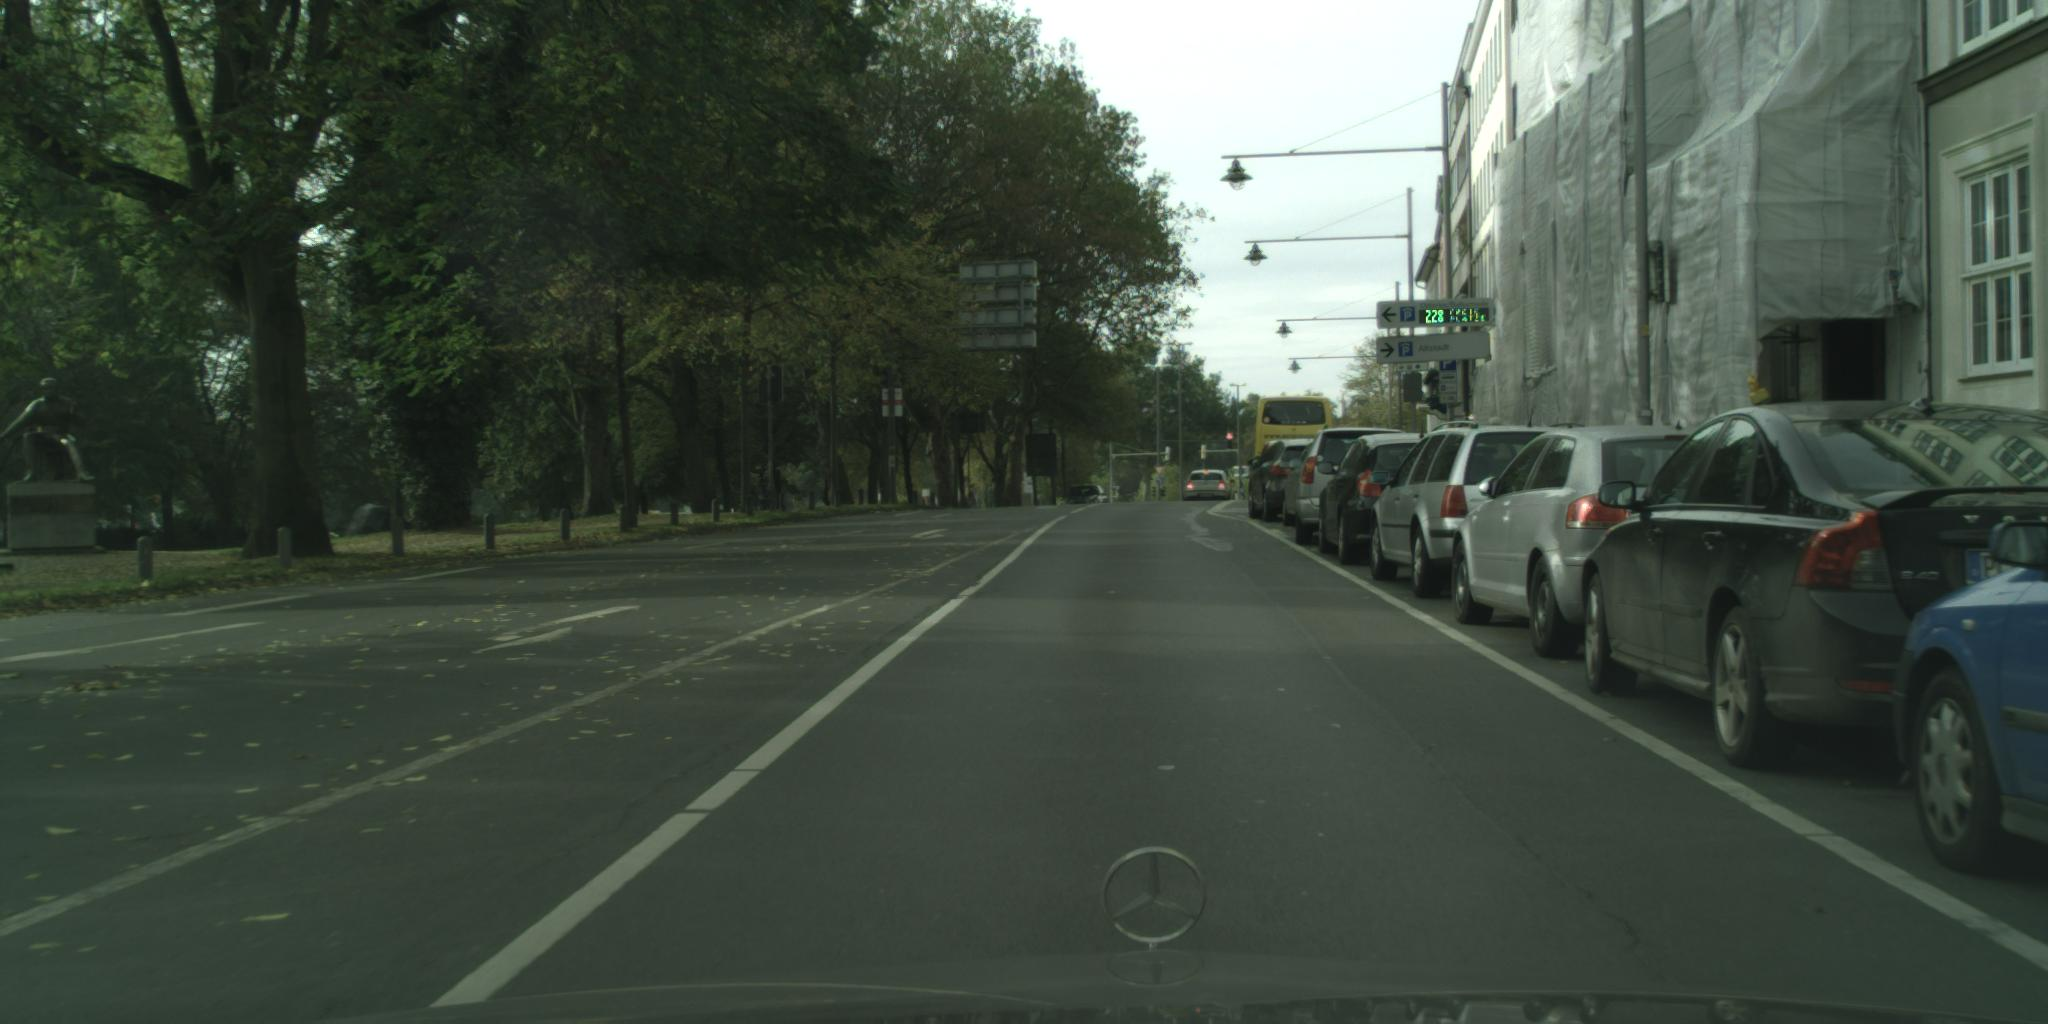bus: (1254, 397, 1334, 460)
car: (1583, 397, 2048, 773), (1452, 422, 1699, 660), (1895, 520, 2048, 872), (1369, 421, 1588, 600), (1318, 434, 1428, 568), (1283, 428, 1405, 547), (1249, 439, 1317, 524), (1183, 470, 1236, 503), (1061, 485, 1109, 505), (1256, 441, 1283, 465)
